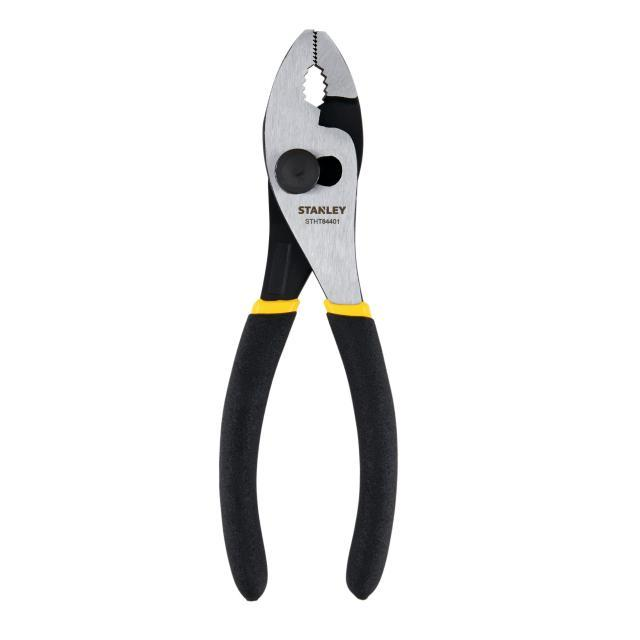pliers: (210, 23, 402, 606)
